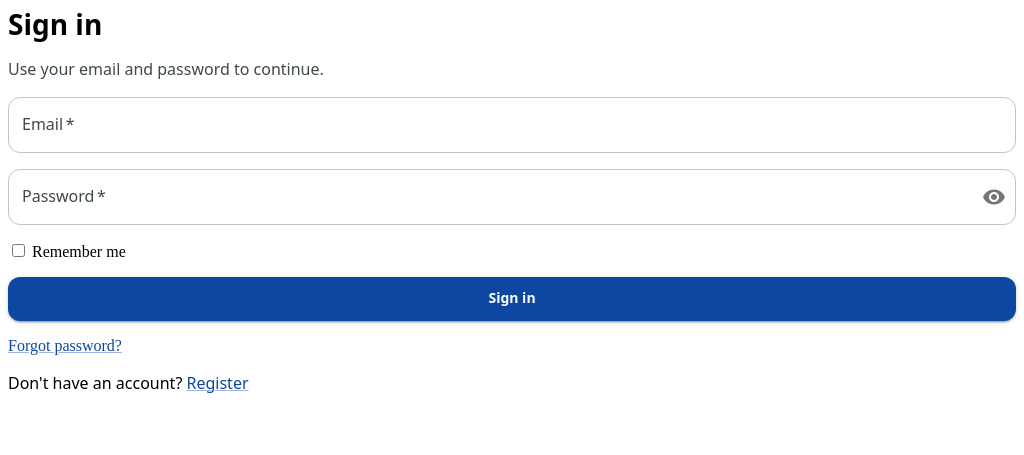
authentication forms › shows a login validation error
Click the button "Sign in".
click(512, 299)  # box 8,277 -> 1016,321
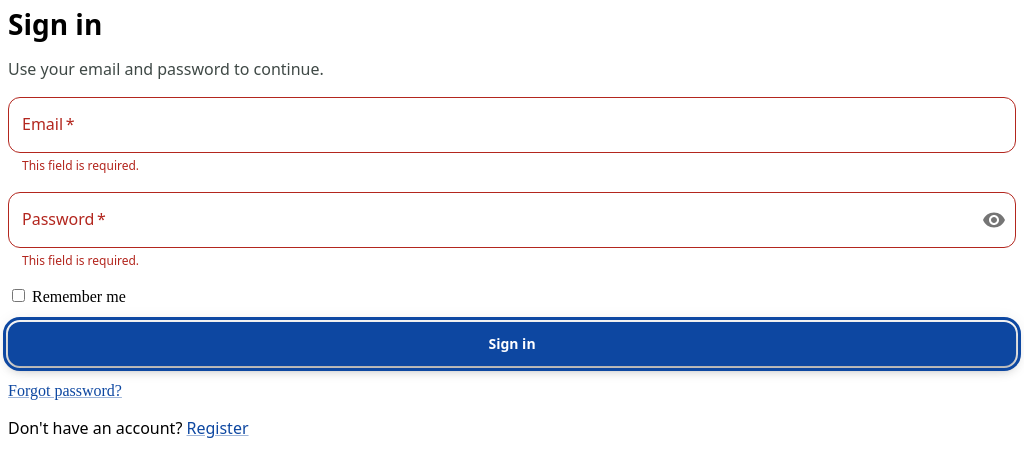
Expected: the 1st text "This field is required." is shown, 22,157 -> 139,174
